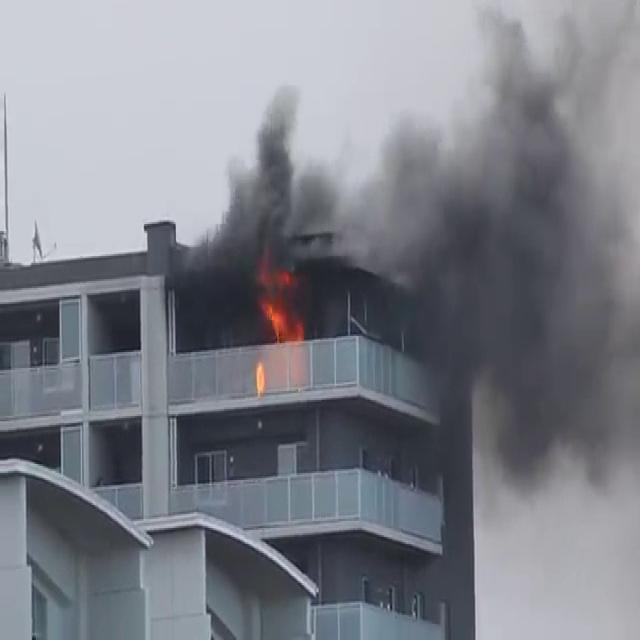Fire: (248, 254, 308, 345)
Smoke: (164, 39, 640, 388), (374, 1, 640, 531)
